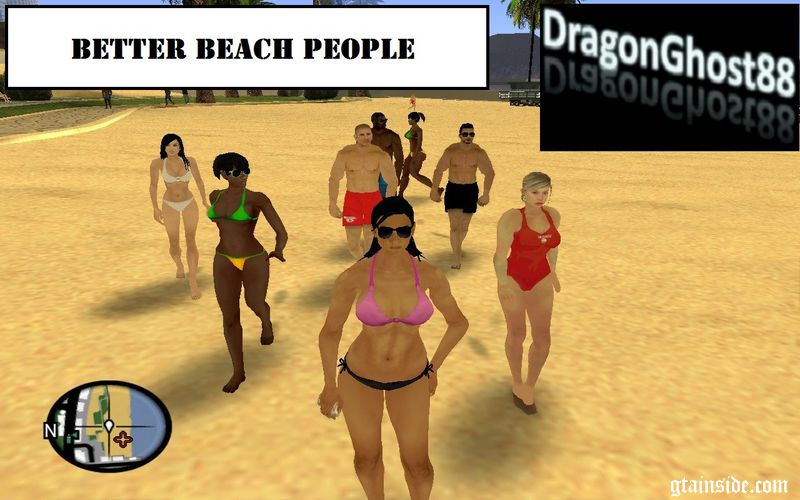person: (335, 195, 447, 500), (496, 175, 569, 418), (208, 153, 282, 391), (145, 132, 211, 301), (428, 121, 491, 272), (337, 121, 394, 267), (368, 112, 403, 217), (396, 109, 432, 209)
